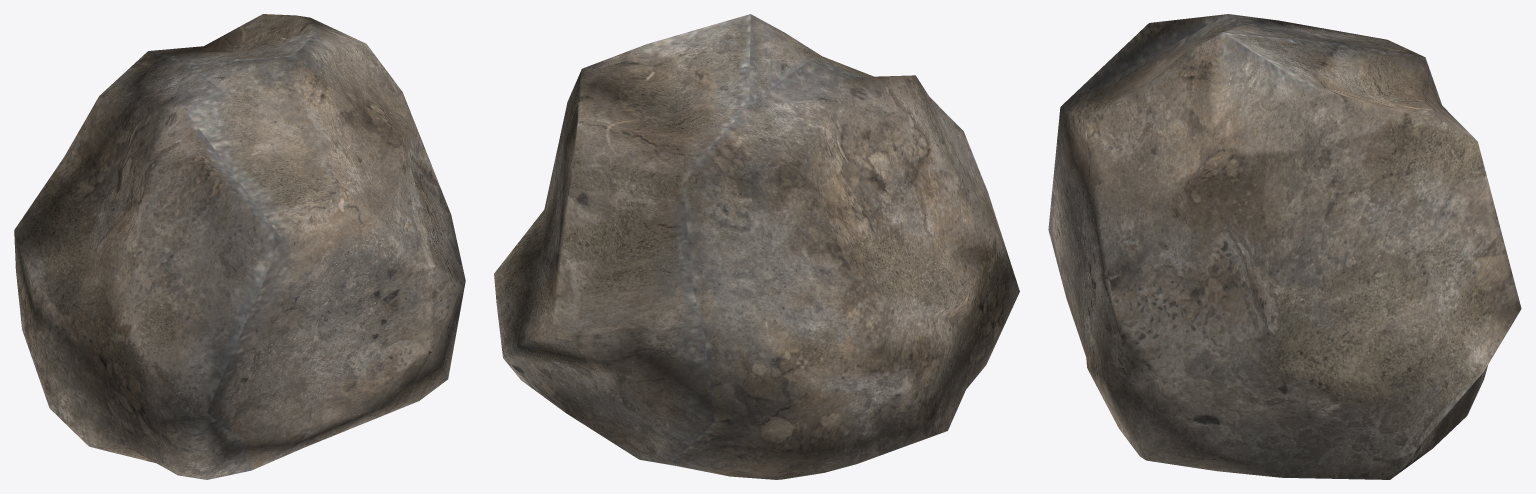
The model's file is Rock.glb.
The picture shows the model from 3 angles, left to right: view 1: azimuth 30°, elevation 25°; view 2: azimuth 150°, elevation 25°; view 3: azimuth 270°, elevation 25°; orthographic projection. The views are drawn at different scales.
Visible parts, largest first — view 1: Rock; view 2: Rock; view 3: Rock.
Boxes of the visible parts, x1,y1,x2,y2 form: Rock: (14,14,465,479); Rock: (494,14,1019,479); Rock: (1048,14,1521,479).
Bounding box in the file's own units: 1.58 × 1.34 × 1.44.
Materials: 1 (1 with a texture image).
